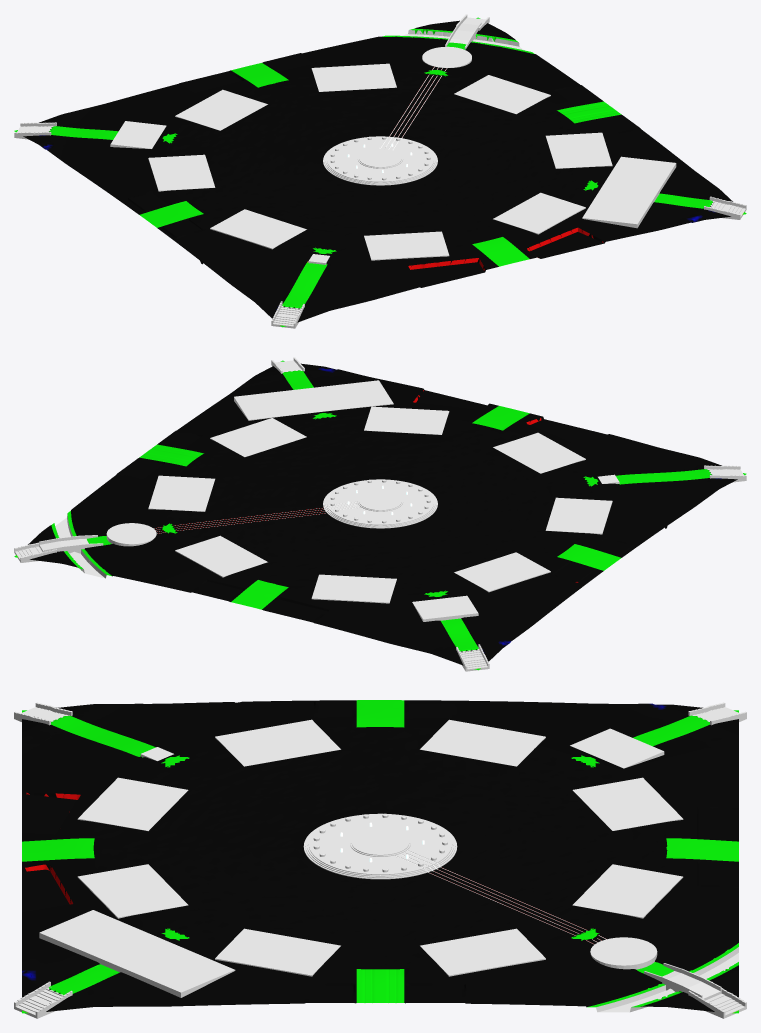
Rendered from concordia_terrain_plaza.glb.
3 views of the same model, one above another, from view 1: azimuth 30°, elevation 25°; view 2: azimuth 150°, elevation 25°; view 3: azimuth 270°, elevation 25° (orthographic). The views are drawn at different scales.
Parts seen in each view (by area): view 1: TRN_City_Chunk_7_7_LOD0, TRN_City_Chunk_8_7_LOD0, TRN_City_Chunk_7_8_LOD0, TRN_City_Chunk_9_8_LOD0, TRN_City_Chunk_7_9_LOD0, TRN_City_Chunk_8_9_LOD0, TRN_City_Chunk_9_9_LOD0, TRN_City_Chunk_8_8_LOD0, TRN_City_Chunk_9_7_LOD0, TRN_Pad_SalonHazanas, TRN_Atrio, TRN_PlazaParcel_06 (+14 smaller); view 2: TRN_City_Chunk_7_9_LOD0, TRN_City_Chunk_8_9_LOD0, TRN_City_Chunk_7_7_LOD0, TRN_City_Chunk_7_8_LOD0, TRN_City_Chunk_9_9_LOD0, TRN_City_Chunk_9_8_LOD0, TRN_City_Chunk_8_7_LOD0, TRN_City_Chunk_8_8_LOD0, TRN_City_Chunk_9_7_LOD0, TRN_Pad_SalonHazanas, TRN_Atrio, TRN_PlazaParcel_03 (+12 smaller); view 3: TRN_City_Chunk_9_8_LOD0, TRN_City_Chunk_9_9_LOD0, TRN_City_Chunk_7_7_LOD0, TRN_City_Chunk_8_9_LOD0, TRN_City_Chunk_8_7_LOD0, TRN_City_Chunk_7_8_LOD0, TRN_City_Chunk_7_9_LOD0, TRN_City_Chunk_8_8_LOD0, TRN_City_Chunk_9_7_LOD0, TRN_Pad_SalonHazanas, TRN_Atrio, TRN_PlazaParcel_01 (+17 smaller).
Part boxes in pixels (bbox=[...]): TRN_City_Chunk_7_7_LOD0: bbox=[193, 213, 436, 327]; TRN_City_Chunk_8_7_LOD0: bbox=[348, 175, 591, 283]; TRN_City_Chunk_7_8_LOD0: bbox=[103, 148, 347, 254]; TRN_City_Chunk_9_8_LOD0: bbox=[413, 76, 656, 175]; TRN_City_Chunk_7_9_LOD0: bbox=[14, 86, 257, 189]; TRN_City_Chunk_8_9_LOD0: bbox=[169, 48, 412, 147]; TRN_City_Chunk_9_9_LOD0: bbox=[324, 17, 567, 109]; TRN_City_Chunk_8_8_LOD0: bbox=[258, 110, 502, 212]; TRN_City_Chunk_9_7_LOD0: bbox=[503, 141, 746, 246]; TRN_Pad_SalonHazanas: bbox=[582, 156, 676, 228]; TRN_Atrio: bbox=[323, 136, 437, 185]; TRN_PlazaParcel_06: bbox=[364, 231, 449, 260]; TRN_City_Chunk_7_9_LOD0: bbox=[324, 556, 567, 670]; TRN_City_Chunk_8_9_LOD0: bbox=[169, 518, 412, 625]; TRN_City_Chunk_7_7_LOD0: bbox=[503, 431, 746, 532]; TRN_City_Chunk_7_8_LOD0: bbox=[413, 491, 657, 597]; TRN_City_Chunk_9_9_LOD0: bbox=[14, 484, 257, 587]; TRN_City_Chunk_9_8_LOD0: bbox=[104, 419, 347, 518]; TRN_City_Chunk_8_7_LOD0: bbox=[348, 393, 591, 490]; TRN_City_Chunk_8_8_LOD0: bbox=[258, 453, 502, 555]; TRN_City_Chunk_9_7_LOD0: bbox=[193, 360, 436, 452]; TRN_Pad_SalonHazanas: bbox=[234, 380, 393, 420]; TRN_Atrio: bbox=[323, 479, 437, 528]; TRN_PlazaParcel_03: bbox=[311, 574, 396, 603]; TRN_City_Chunk_9_8_LOD0: bbox=[261, 897, 499, 1004]; TRN_City_Chunk_9_9_LOD0: bbox=[500, 898, 738, 1013]; TRN_City_Chunk_7_7_LOD0: bbox=[22, 701, 260, 804]; TRN_City_Chunk_8_9_LOD0: bbox=[500, 797, 738, 903]; TRN_City_Chunk_8_7_LOD0: bbox=[22, 797, 260, 905]; TRN_City_Chunk_7_8_LOD0: bbox=[261, 700, 499, 796]; TRN_City_Chunk_7_9_LOD0: bbox=[500, 701, 738, 802]; TRN_City_Chunk_8_8_LOD0: bbox=[261, 796, 499, 897]; TRN_City_Chunk_9_7_LOD0: bbox=[22, 898, 260, 1013]; TRN_Pad_SalonHazanas: bbox=[39, 910, 235, 997]; TRN_Atrio: bbox=[303, 813, 457, 879]; TRN_PlazaParcel_01: bbox=[420, 928, 545, 976].
Size of what is drawn, in the model's own units: 153 by 5.4 by 153.
Materials: 10 (10 with a texture image).
